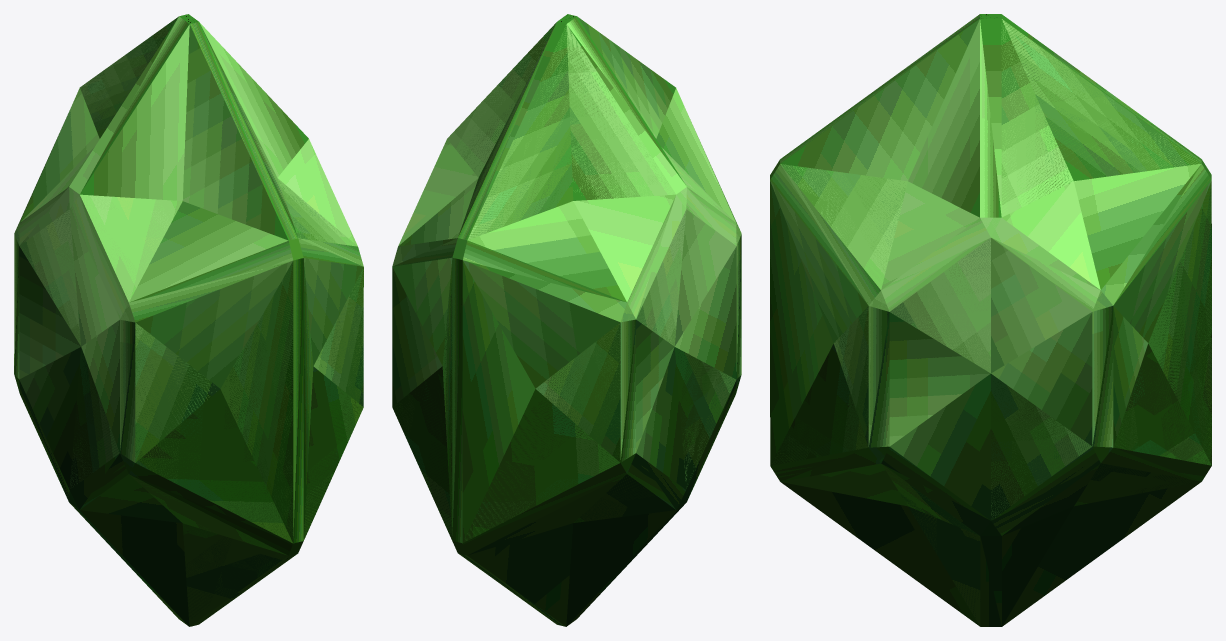
File: PutRupee.fbx
The picture shows the model from 3 angles, left to right: view 1: azimuth 30°, elevation 25°; view 2: azimuth 150°, elevation 25°; view 3: azimuth 270°, elevation 25°; orthographic projection.
Visible parts, largest first — view 1: mesh0000; view 2: mesh0000; view 3: mesh0000.
Boxes of the visible parts, box(x1,y1,x2,y2) form: mesh0000: box(14, 14, 363, 626); mesh0000: box(392, 14, 741, 626); mesh0000: box(770, 14, 1211, 626).
Bounding box in the file's own units: 20 × 48.27 × 31.78.
1 material, 1 textured.
